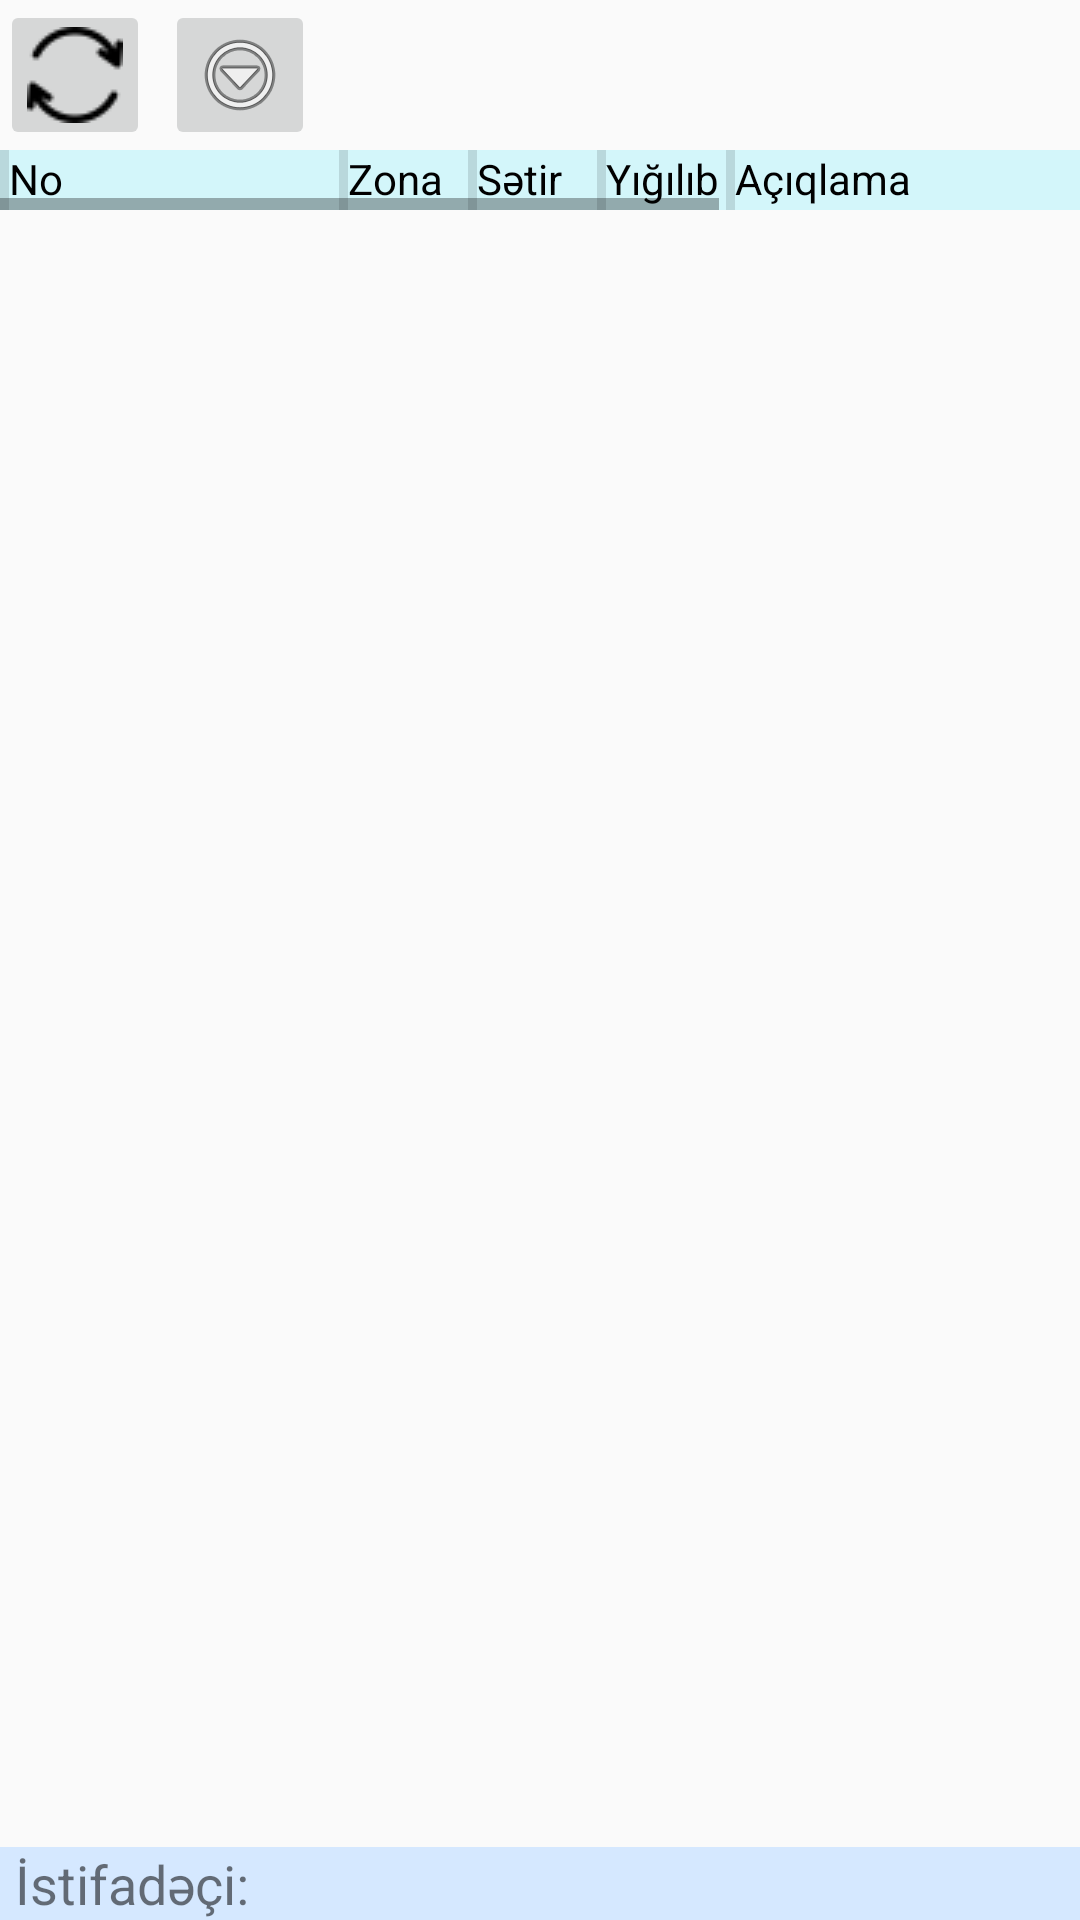

Where icons sit on this 1080 x 1920 app screen, as (x1, y1, x2, y2):
more: (177, 18, 303, 132)
refresh: (12, 18, 138, 132)
